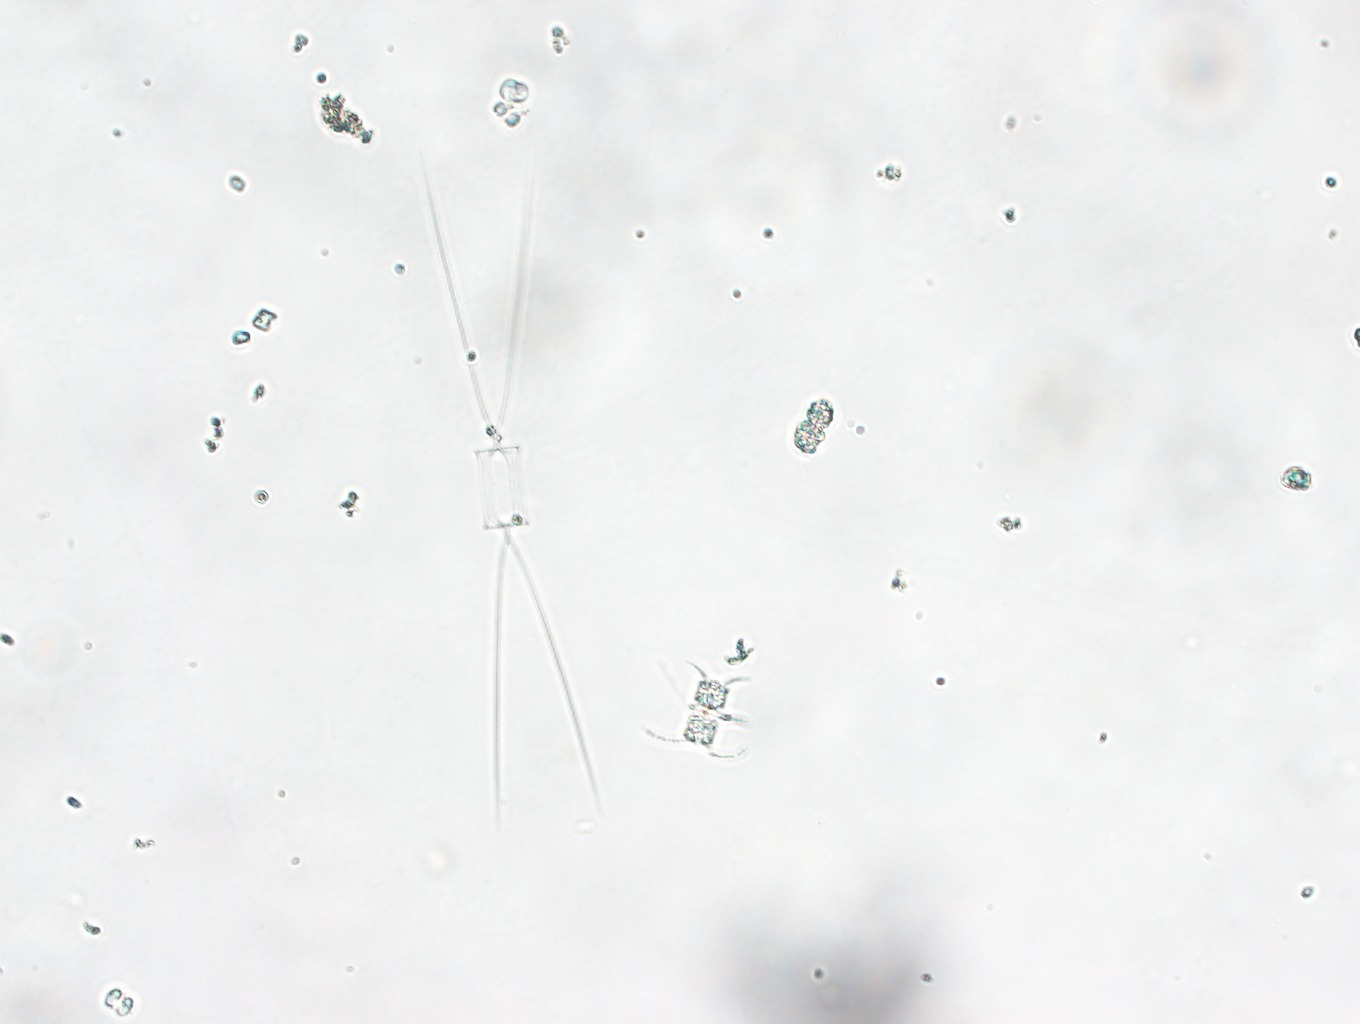chaetoceros: (413, 185, 599, 838)
